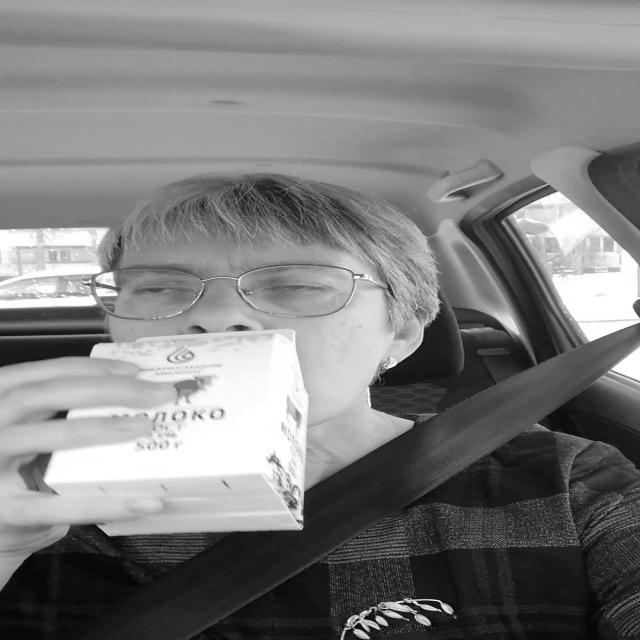Drinking: (32, 328, 326, 542)
Seatbelt: (127, 323, 628, 638)
